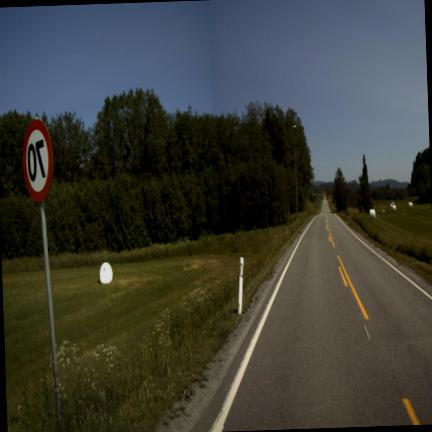Road: (195, 202, 431, 430)
